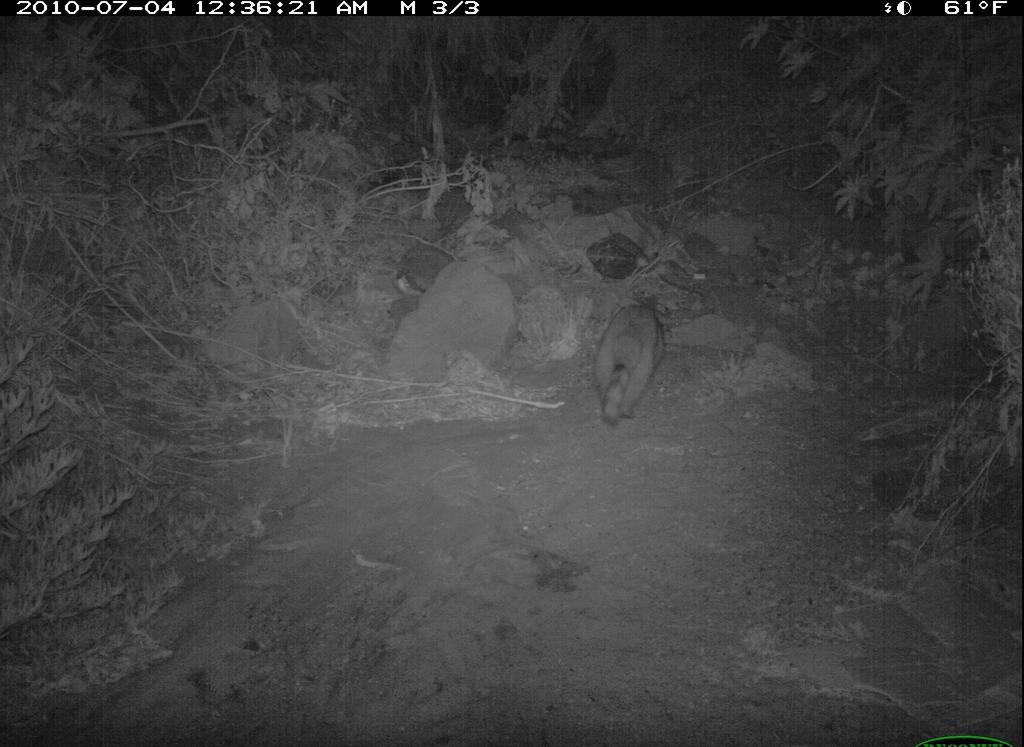raccoon: (587, 289, 675, 441)
